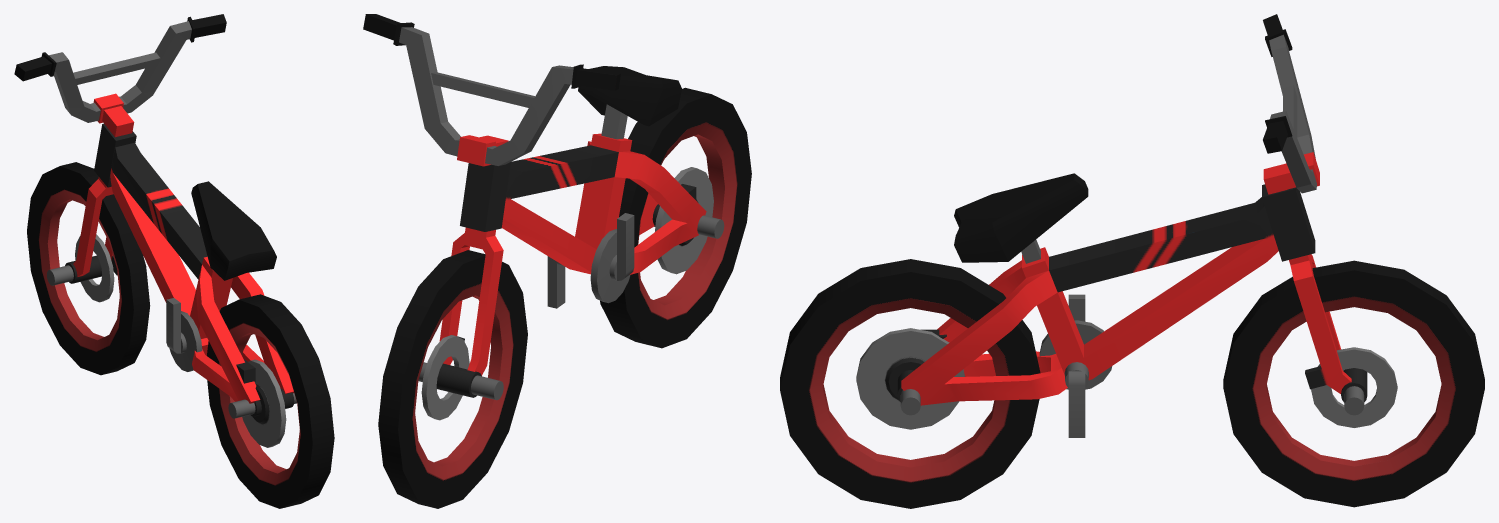
File: bmx.glb
3 views of the same model, side by side, from view 1: azimuth 30°, elevation 25°; view 2: azimuth 150°, elevation 25°; view 3: azimuth 270°, elevation 25° (orthographic). The views are drawn at different scales.
Visible parts, largest first — view 1: BMX Body, BMX Rear Wheel, BMX Front Wheel, BMX Handle, BMX Pedals; view 2: BMX Front Wheel, BMX Body, BMX Rear Wheel, BMX Handle, BMX Pedals; view 3: BMX Body, BMX Rear Wheel, BMX Front Wheel, BMX Handle, BMX Pedals.
Part boxes in pixels (<box>): BMX Body: <box>94,123,294,403</box>; BMX Rear Wheel: <box>207,294,334,508</box>; BMX Front Wheel: <box>27,162,150,375</box>; BMX Handle: <box>14,14,226,276</box>; BMX Pedals: <box>166,298,202,371</box>; BMX Front Wheel: <box>378,250,527,508</box>; BMX Body: <box>460,66,706,274</box>; BMX Rear Wheel: <box>600,87,751,348</box>; BMX Handle: <box>363,14,620,375</box>; BMX Pedals: <box>547,213,634,308</box>; BMX Body: <box>901,173,1315,405</box>; BMX Rear Wheel: <box>780,259,1040,508</box>; BMX Front Wheel: <box>1223,260,1484,507</box>; BMX Handle: <box>1263,14,1351,393</box>; BMX Pedals: <box>1039,294,1112,437</box>.
Size of the model in its own units: 1.36 by 2.2 by 3.27.
Materials: 1 (1 with a texture image).
